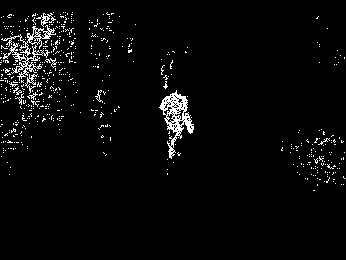person: (159, 87, 196, 165)
